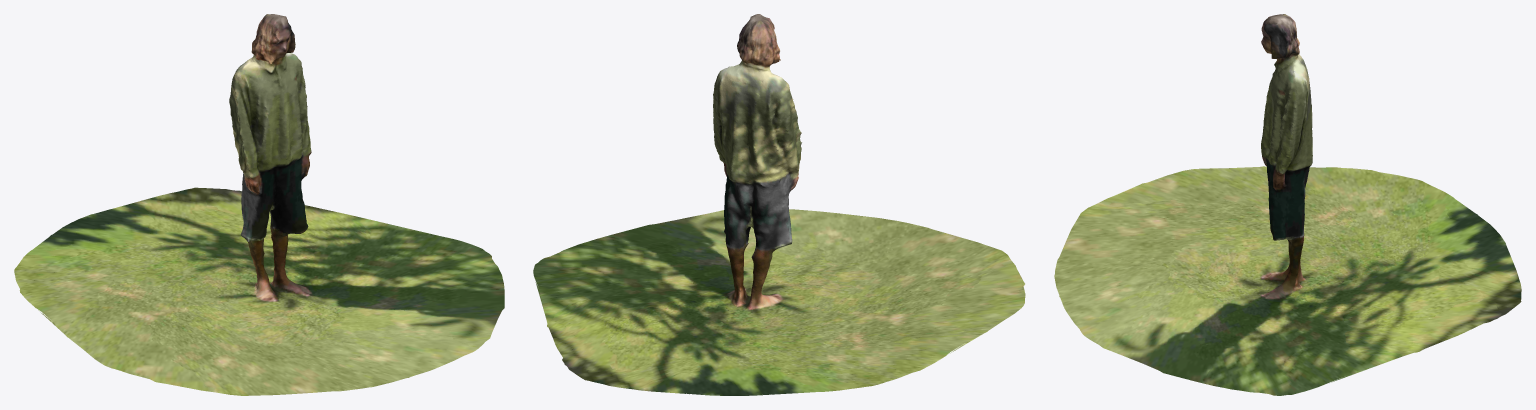
File: self1.glb
3 views of the same model, side by side, from view 1: azimuth 30°, elevation 25°; view 2: azimuth 150°, elevation 25°; view 3: azimuth 270°, elevation 25° (orthographic). The views are drawn at different scales.
Visible parts, largest first — view 1: mesh; view 2: mesh; view 3: mesh.
Part boxes in pixels (x1=…): mesh: x1=14, y1=14, x2=504, y2=395; mesh: x1=533, y1=14, x2=1025, y2=395; mesh: x1=1054, y1=14, x2=1521, y2=395.
Size of the model in its own units: 3.02 by 1.95 by 2.96.
Materials: 1 (1 with a texture image).
